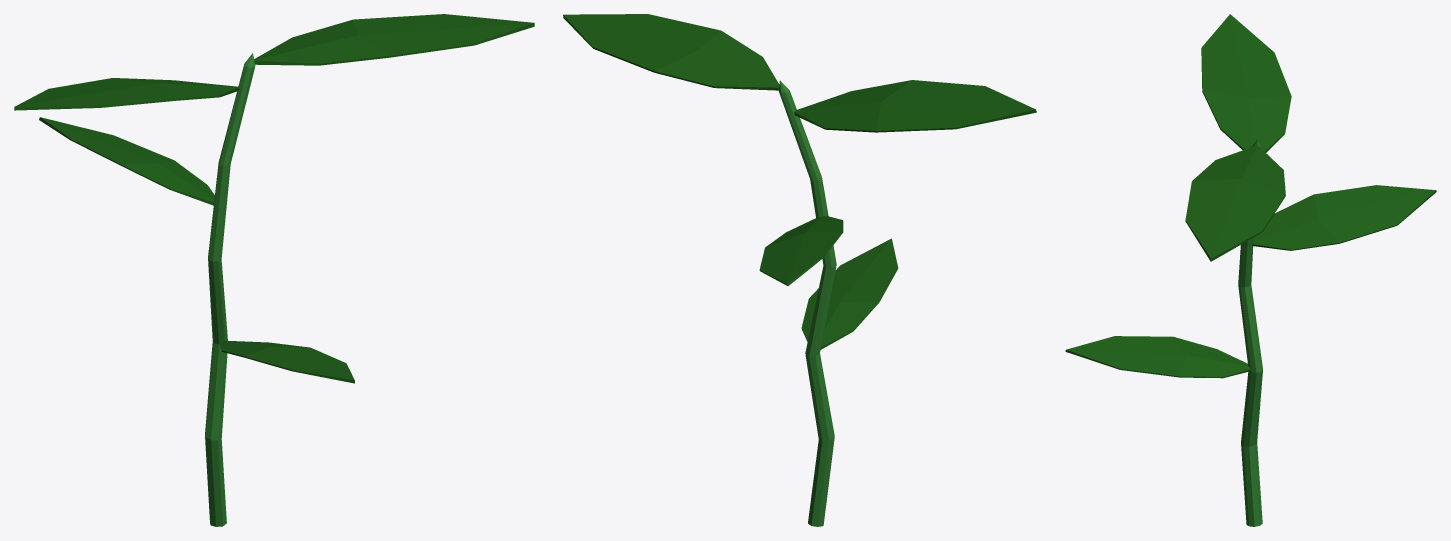
Rendered from Plant 1.1.fbx.
3 views of the same model, side by side, from view 1: azimuth 30°, elevation 25°; view 2: azimuth 150°, elevation 25°; view 3: azimuth 270°, elevation 25° (orthographic). The views are drawn at different scales.
Parts seen in each view (by area): view 1: Plant 1.1; view 2: Plant 1.1; view 3: Plant 1.1.
Part boxes in pixels (x1,y1,x2,y2): Plant 1.1: [14, 14, 534, 526]; Plant 1.1: [563, 14, 1036, 526]; Plant 1.1: [1065, 14, 1436, 526].
Size of the model in its own units: 118 by 106 by 85.4.
